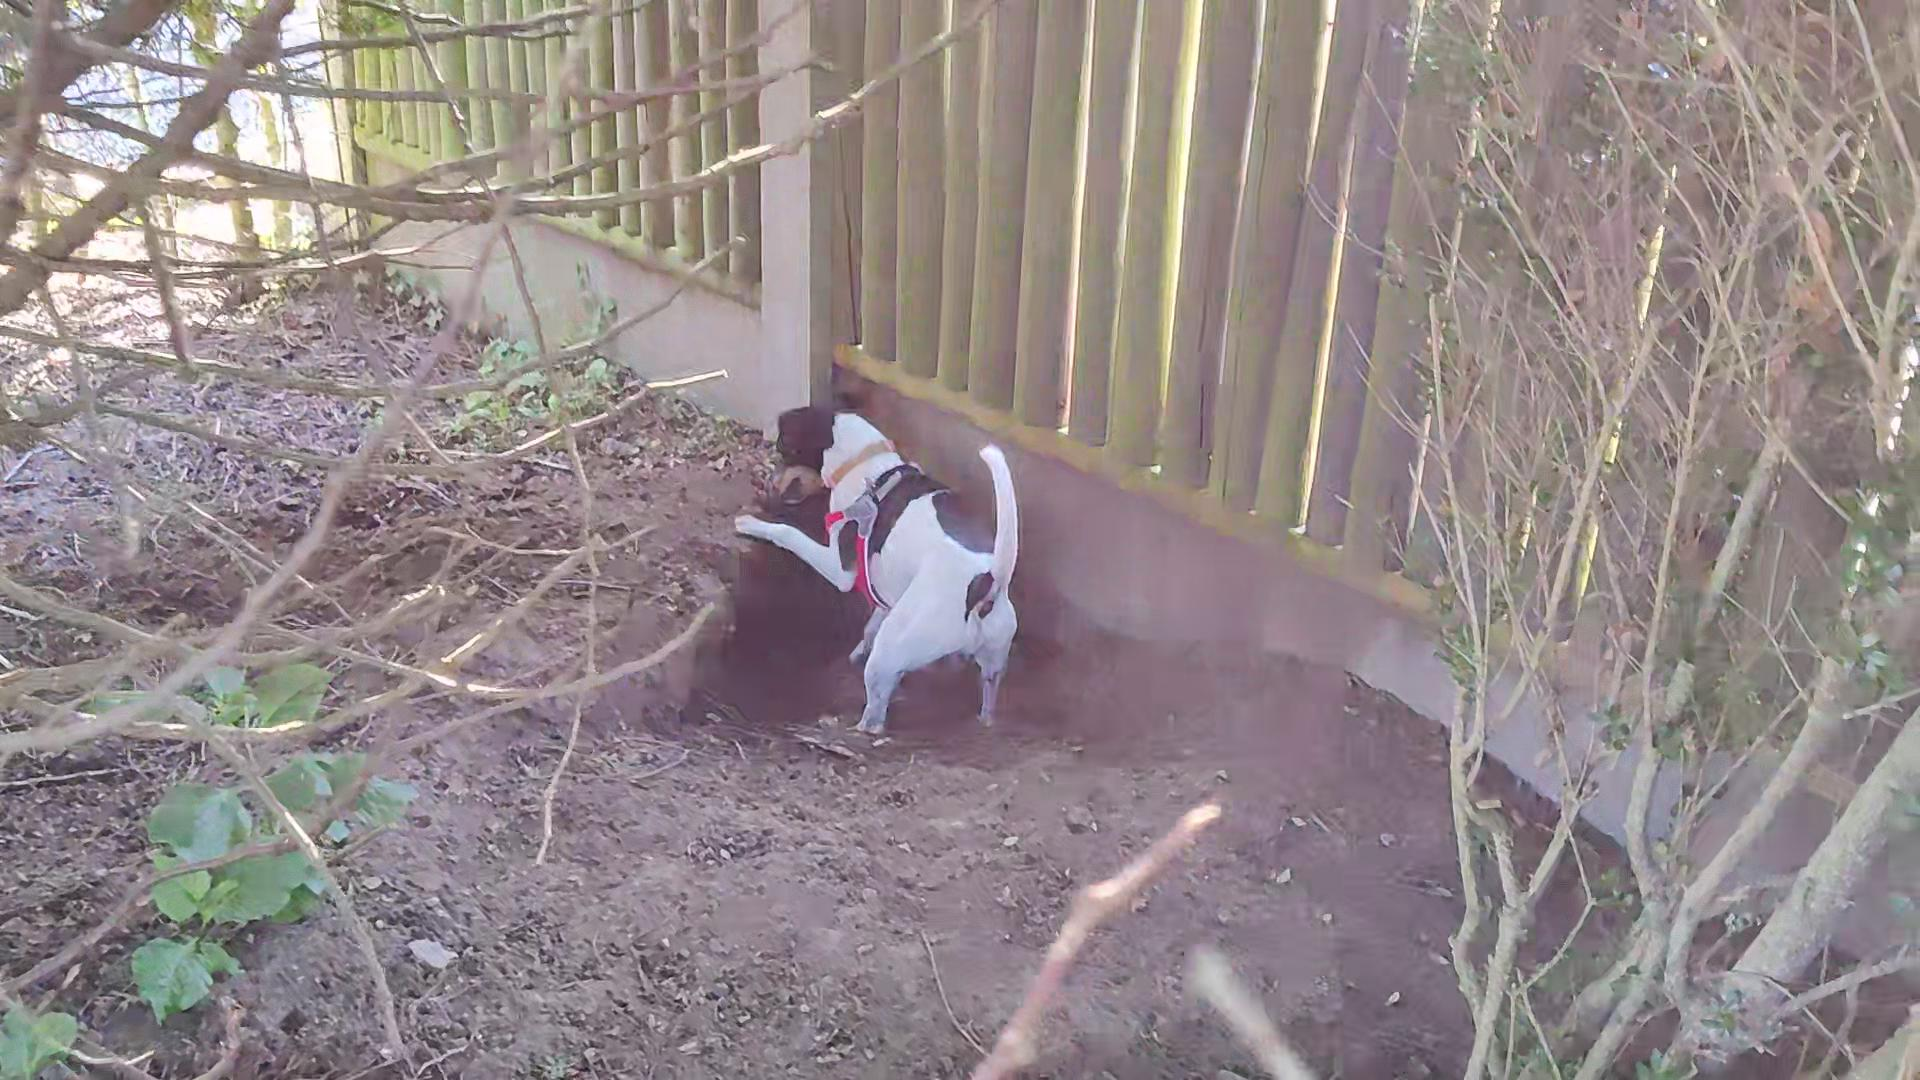Dog: (719, 389, 1044, 753)
